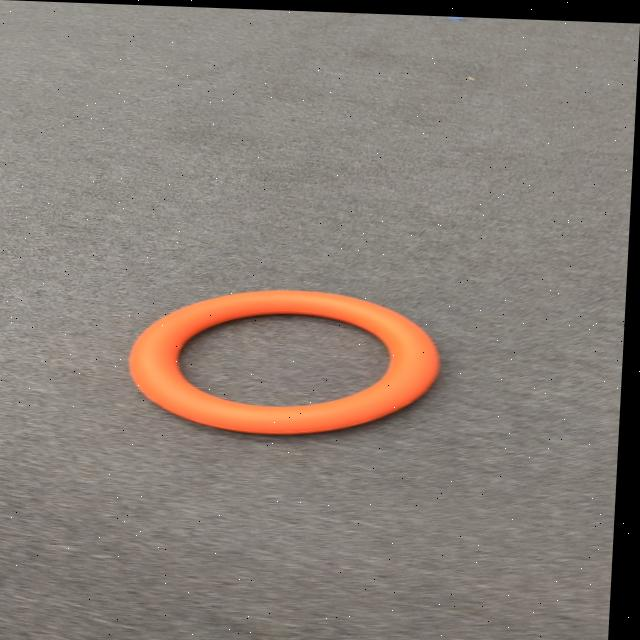note: (125, 282, 444, 435)
